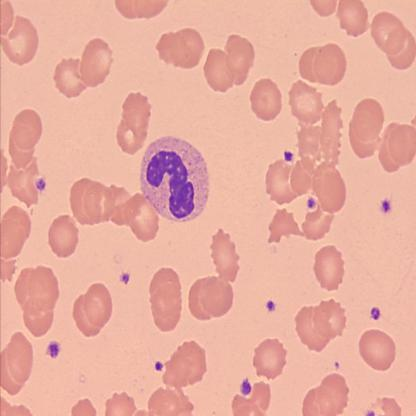Band Neutrophil: (137, 131, 211, 224)
